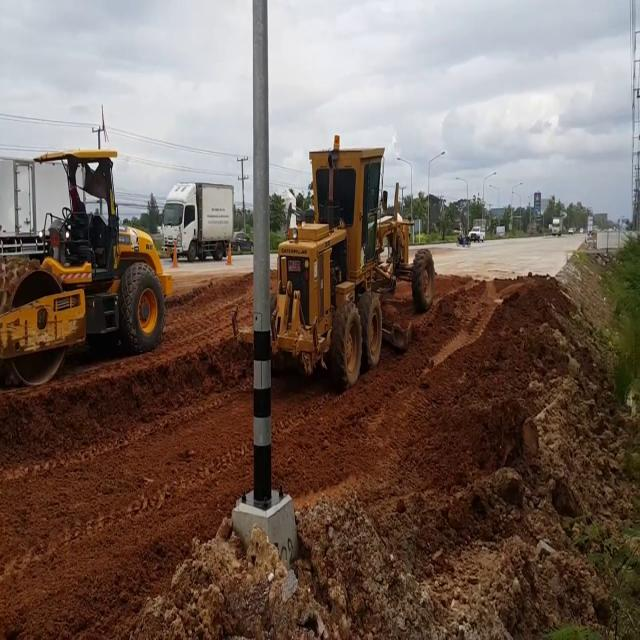buldozerpayloadergrader: (233, 145, 436, 388), (1, 148, 176, 390)
